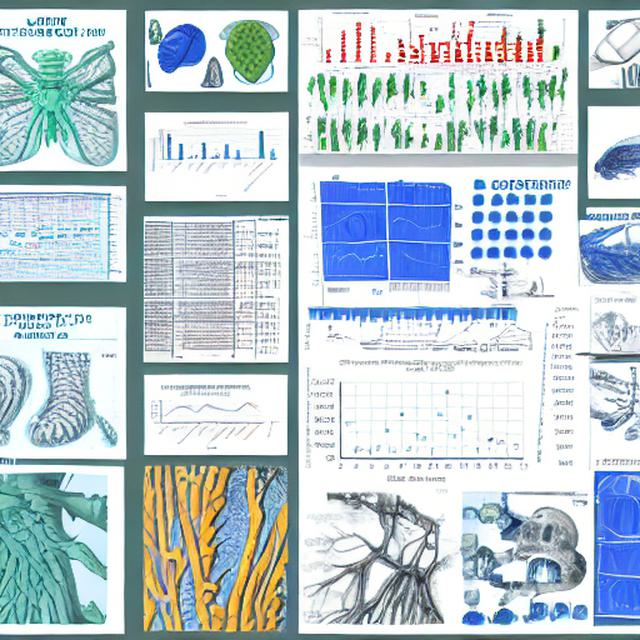Graph: (302, 353, 531, 485), (150, 118, 280, 199), (146, 382, 265, 452), (302, 10, 397, 72), (327, 243, 388, 281)
